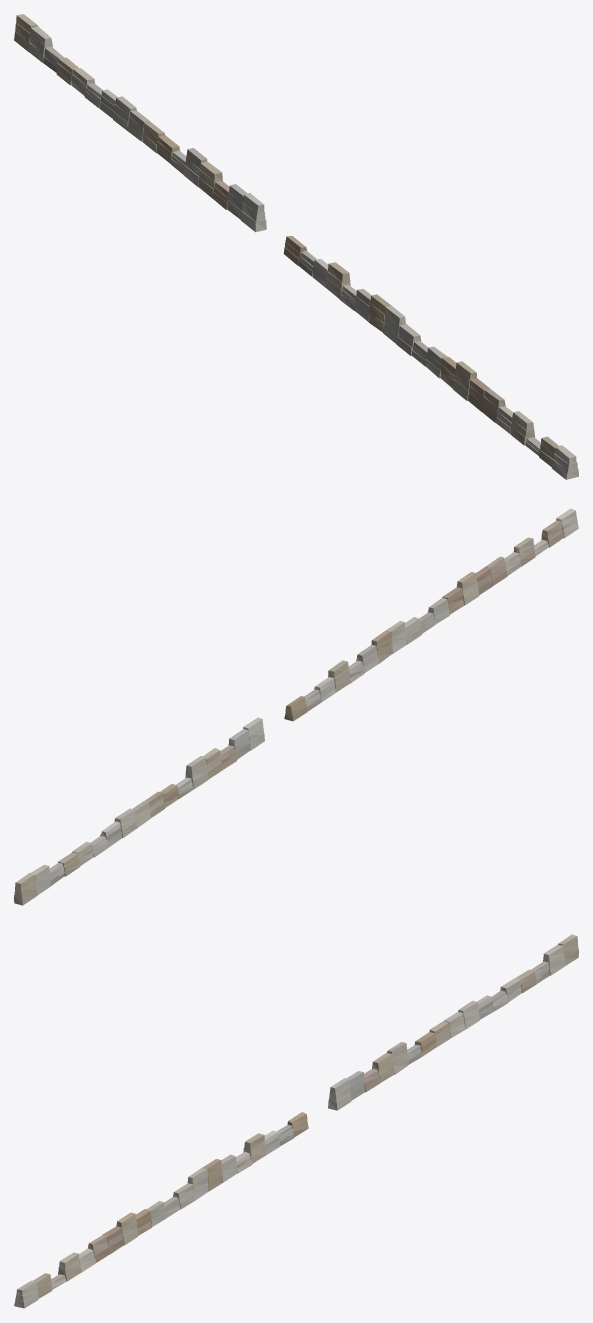
File: farm_14_11_mid.glb
3 renders of one model, top to bottom at view 1: azimuth 30°, elevation 25°; view 2: azimuth 150°, elevation 25°; view 3: azimuth 330°, elevation 25°, orthographic. The views are drawn at different scales.
Parts seen in each view (by area): view 1: geometry_0; view 2: geometry_0; view 3: geometry_0.
Part boxes in pixels (x1,y1,x2,y2): geometry_0: (14, 14, 578, 479); geometry_0: (14, 508, 578, 905); geometry_0: (14, 934, 578, 1308).
Bounding box in the file's own units: 3.7 × 2.23 × 61.81.
